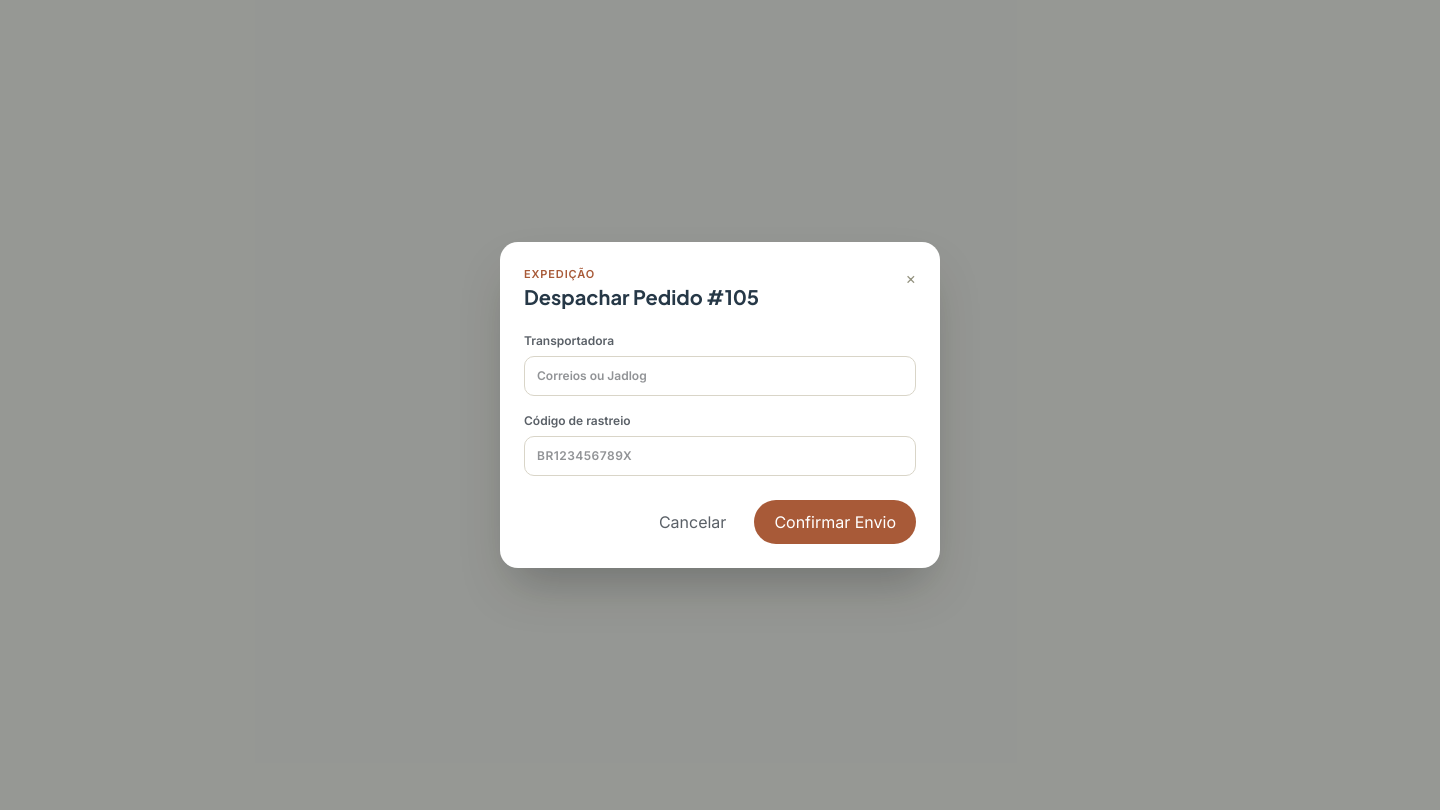
ShippingModal › impede o envio com código vazio
Type "Correios" into the field labelled "Transportadora" at (720, 376), box [524,356,916,396]
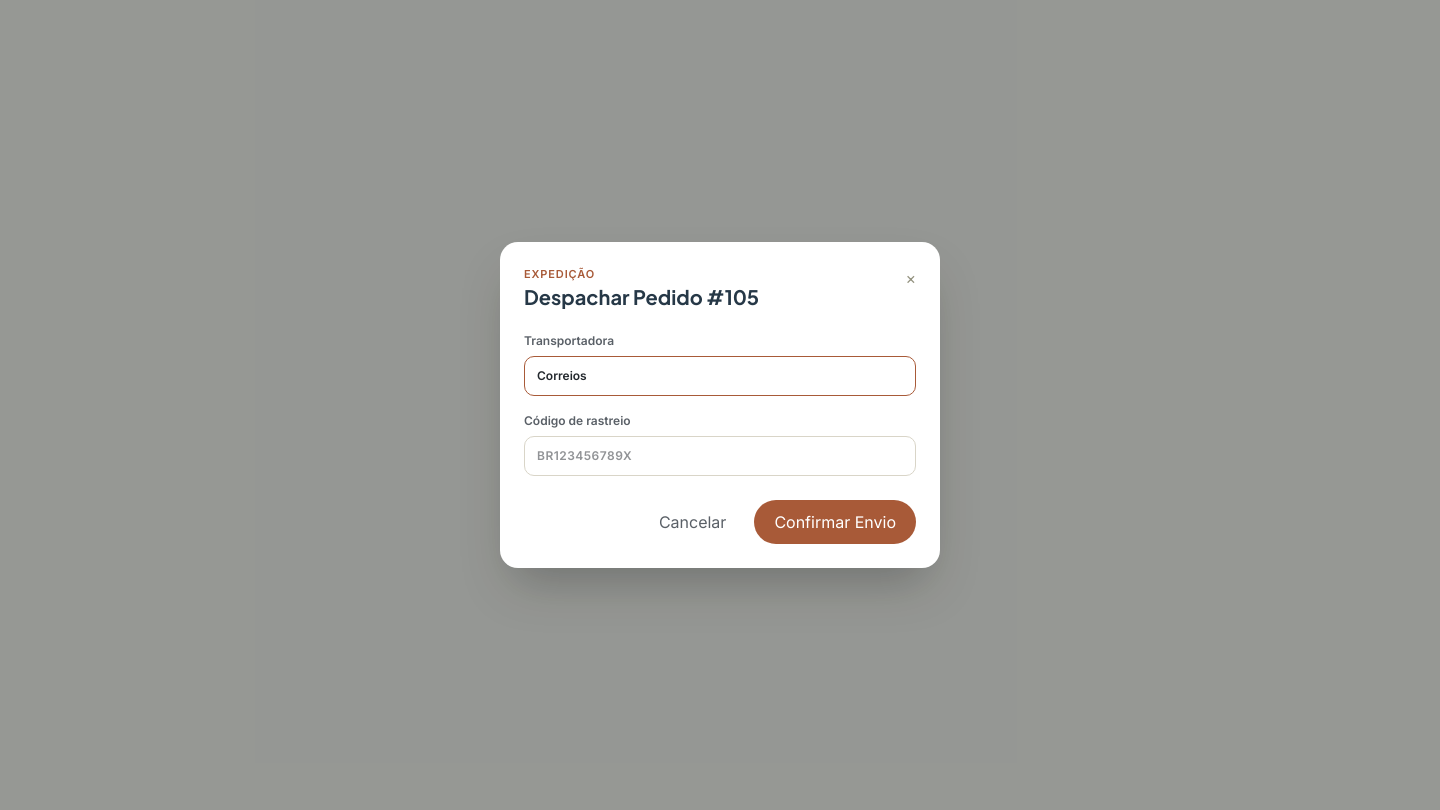
Click the button "Confirmar Envio" at (835, 522), box [754,500,916,544]
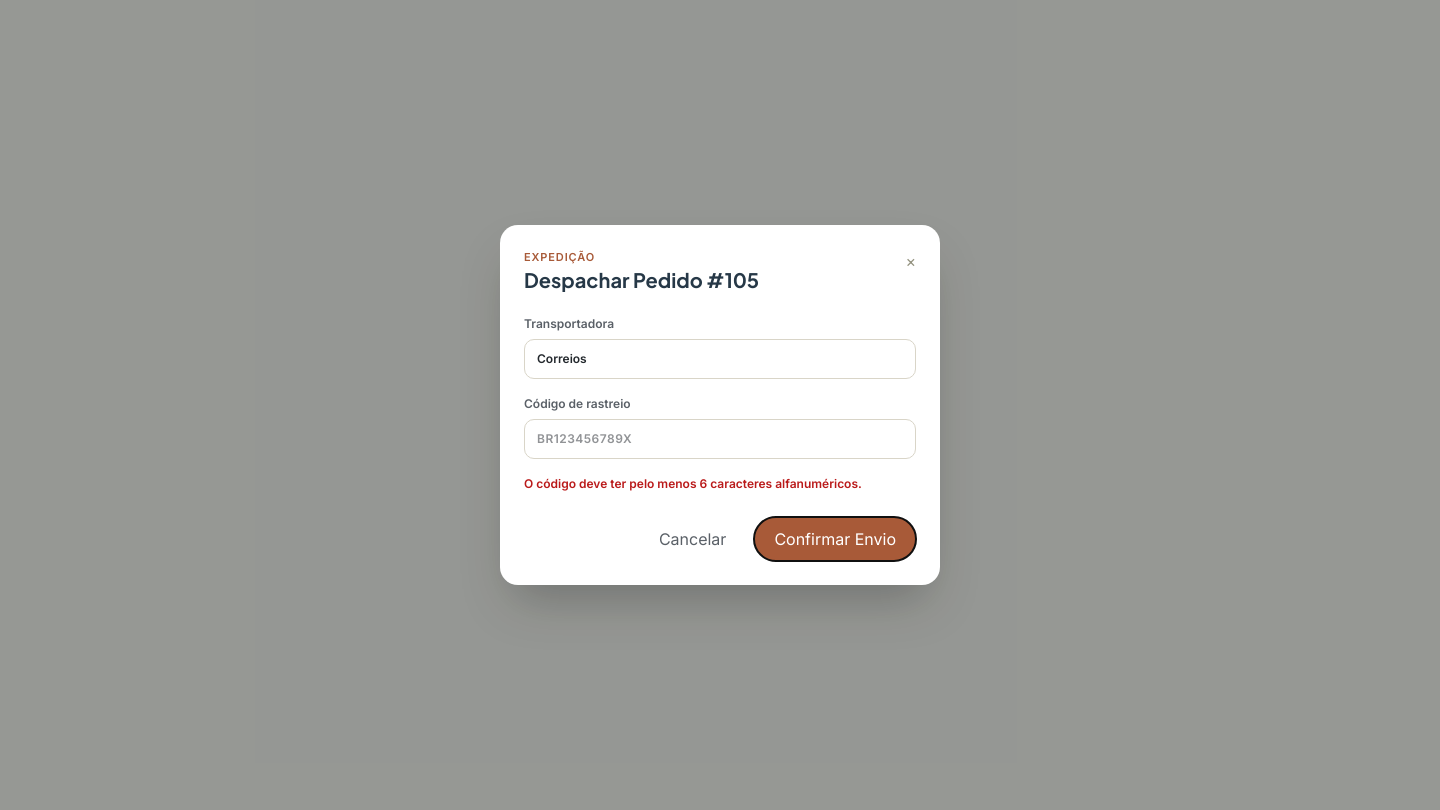
Result: the message shows "pelo menos 6" at [524,476,862,491]
